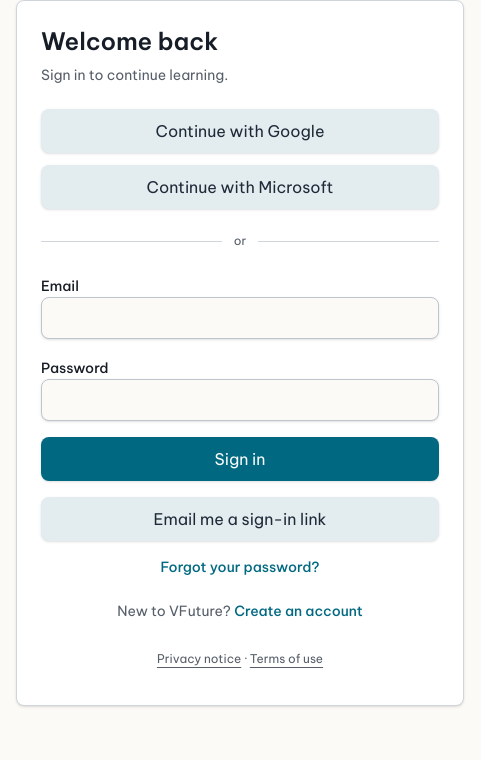
authentication and onboarding › sends existing users a magic sign-in link that preserves the requested destination
Type "learner@example.com" into the field labelled "Email".
click(240, 318); type("learner@example.com")  # box x1=41 y1=297 x2=439 y2=339
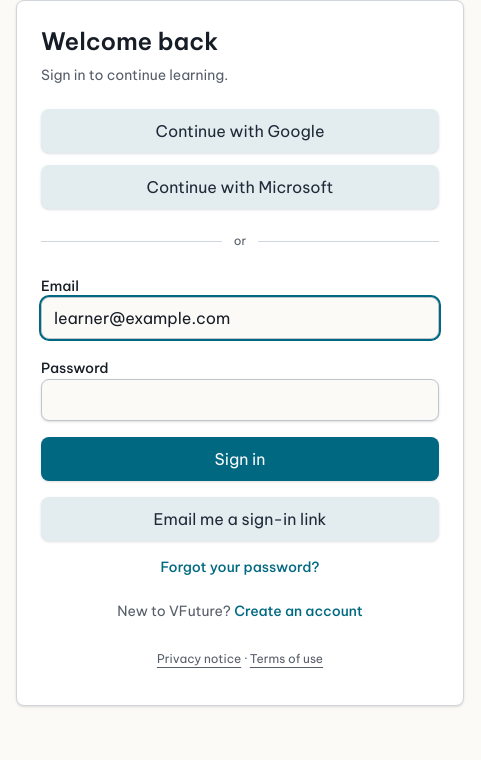
Click the button "Email me a sign-in link".
click(240, 519)  # box x1=41 y1=497 x2=439 y2=541
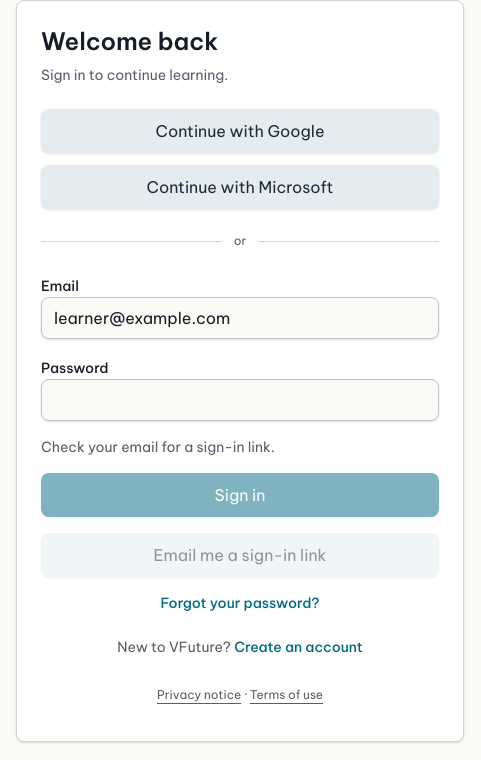
Now the message reads "Check your email for a sign-in link.", box x1=41 y1=438 x2=275 y2=456
